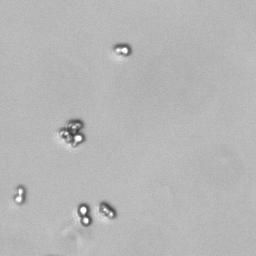budding: (76, 204, 91, 225), (13, 186, 25, 205), (114, 44, 130, 56)
cluster: (57, 117, 86, 148), (97, 201, 119, 222)
